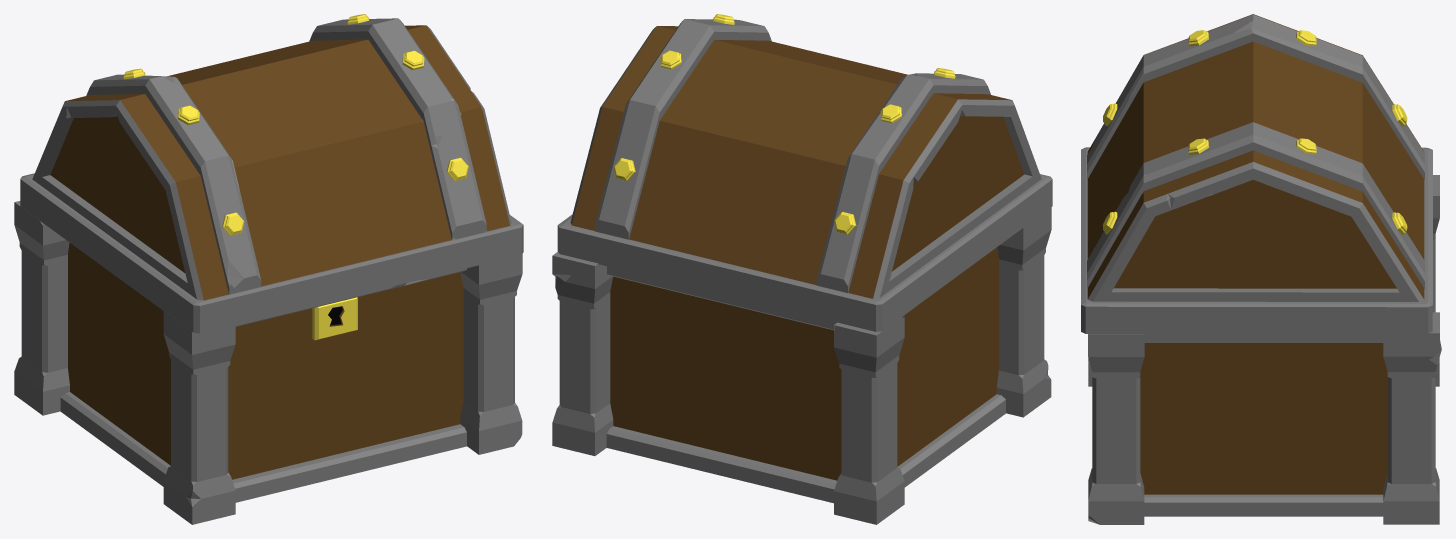
The model's file is ChestClosed.obj.
3 views of the same model, side by side, from view 1: azimuth 30°, elevation 25°; view 2: azimuth 150°, elevation 25°; view 3: azimuth 270°, elevation 25° (orthographic).
Parts seen in each view (by area): view 1: Cylinder.001, Cube.001; view 2: Cylinder.001, Cube.001; view 3: Cylinder.001, Cube.001.
Part boxes in pixels (x1,y1,x2,y2): Cylinder.001: (20,14,523,333); Cube.001: (14,201,522,524); Cylinder.001: (557,14,1052,331); Cube.001: (552,207,1051,524); Cylinder.001: (1081,14,1432,334); Cube.001: (1088,175,1441,524).
Bounding box in the file's own units: 0.8619 × 0.935 × 0.8242.
